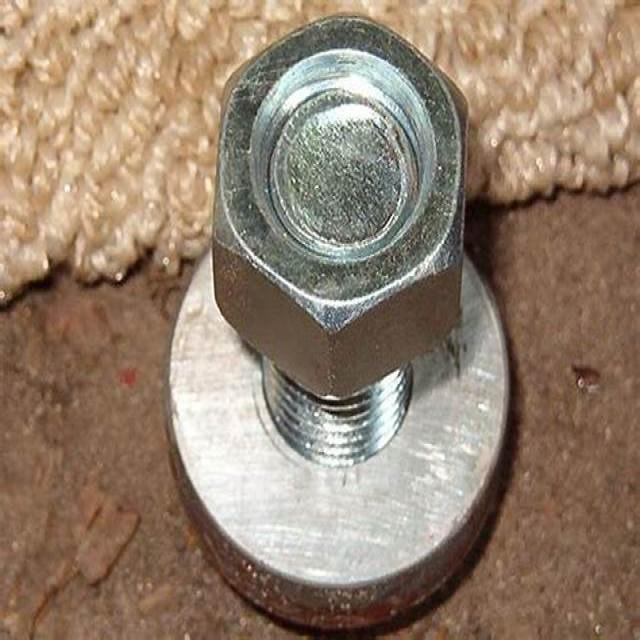bolt nut: (210, 9, 472, 404)
